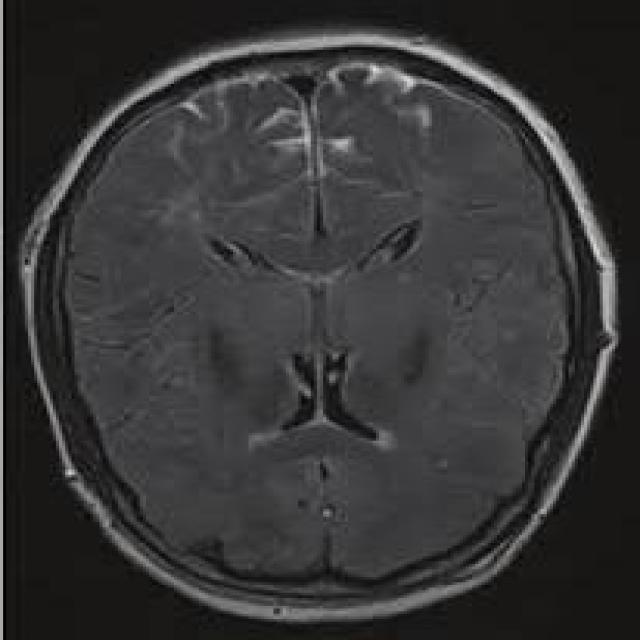no-tumor: (111, 170, 493, 562)
